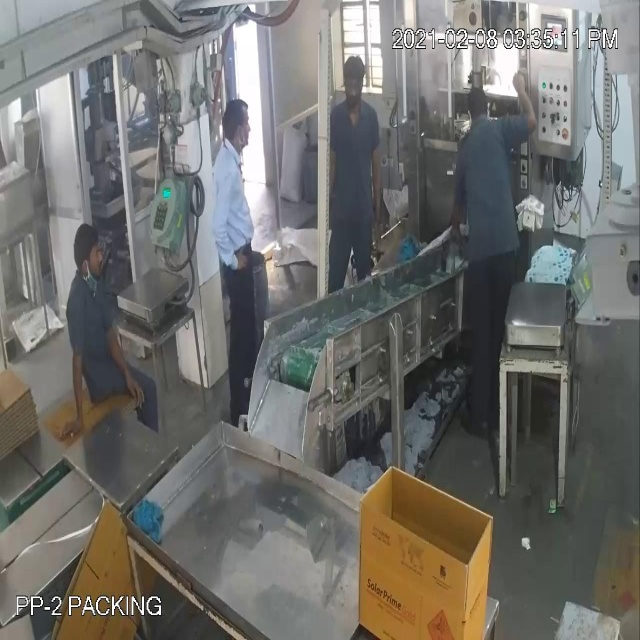Sin_guantes: (99, 313, 155, 428), (205, 187, 254, 283), (57, 335, 92, 450), (505, 58, 542, 151), (367, 132, 389, 247), (438, 187, 471, 252)
